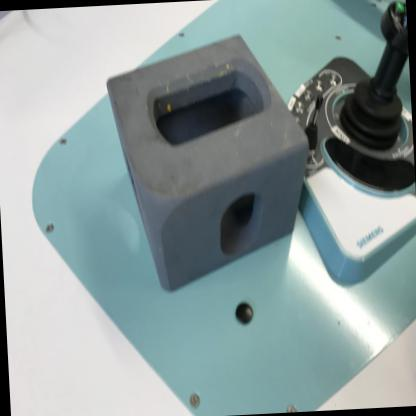CornerCasting: (98, 28, 316, 302)
